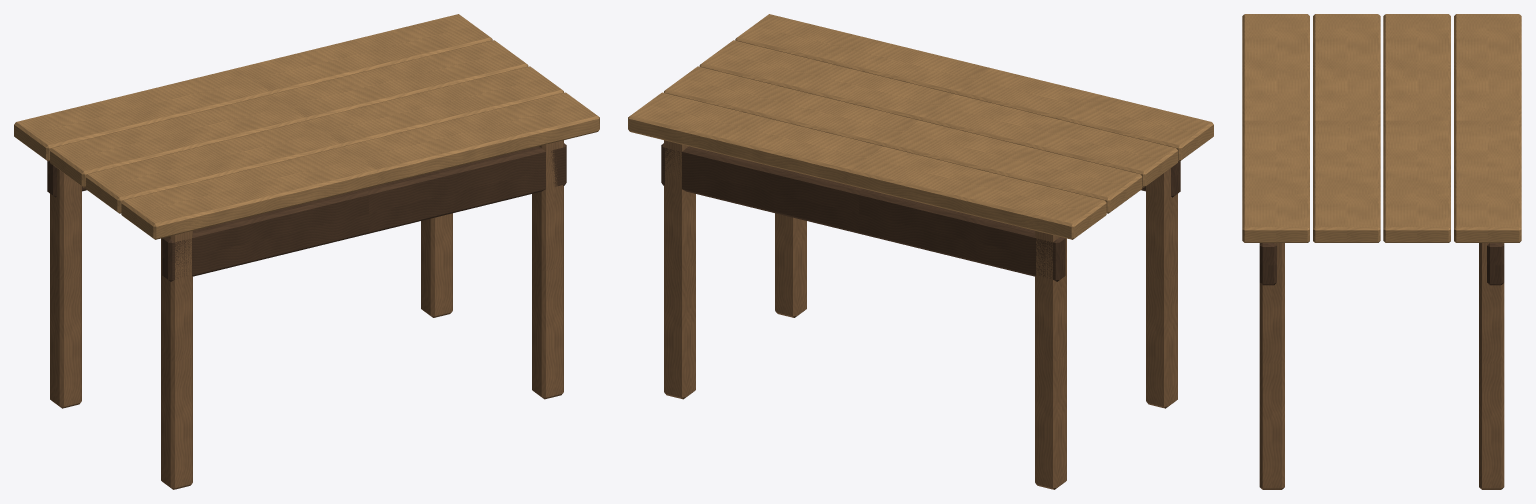
Rendered from room_table.glb.
The picture shows the model from 3 angles, left to right: view 1: azimuth 30°, elevation 25°; view 2: azimuth 150°, elevation 25°; view 3: azimuth 270°, elevation 25°; orthographic projection.
Visible parts, largest first — view 1: room_table_Mesh; view 2: room_table_Mesh; view 3: room_table_Mesh.
Boxes of the visible parts, left/top/right/bottom form: room_table_Mesh: left=14, top=14, right=599, bottom=489; room_table_Mesh: left=628, top=14, right=1213, bottom=489; room_table_Mesh: left=1242, top=14, right=1521, bottom=489.
Size of the model in its own units: 1.3 by 0.7775 by 0.713.
3 materials, 3 textured.
